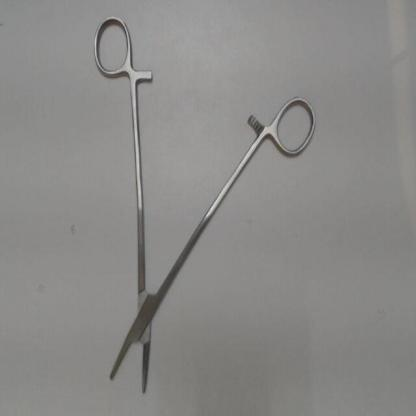8 Mayo Needle Holder: (87, 9, 324, 402)
